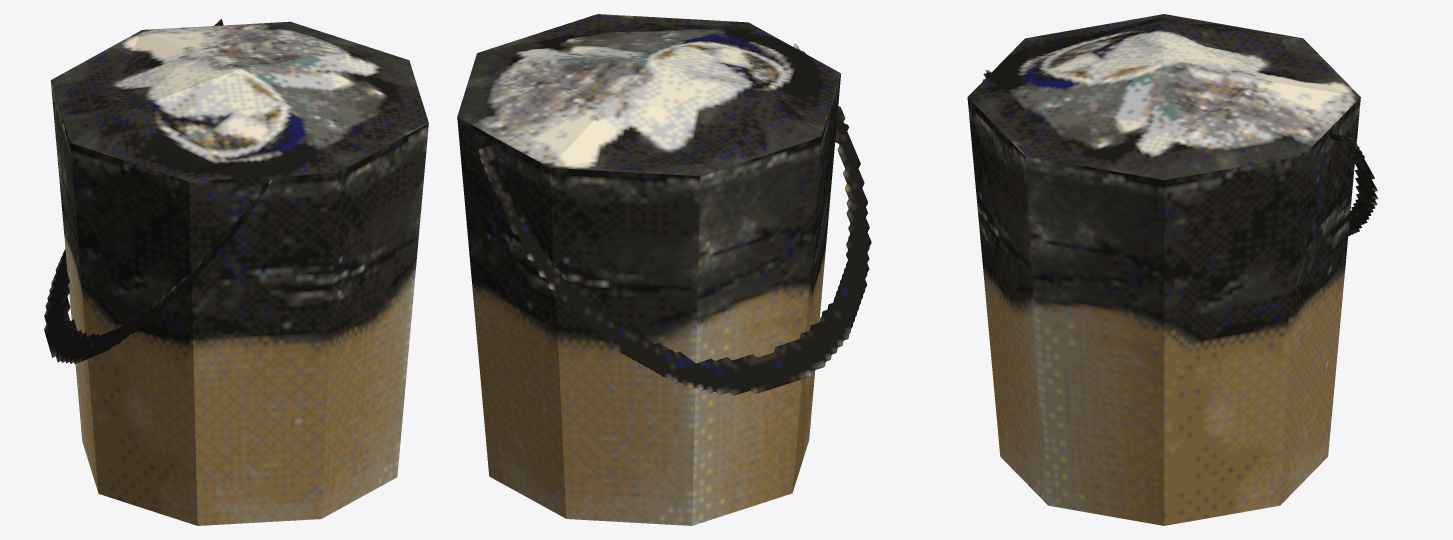
The model's file is trashcan.fbx.
3 views of the same model, side by side, from view 1: azimuth 30°, elevation 25°; view 2: azimuth 150°, elevation 25°; view 3: azimuth 270°, elevation 25° (orthographic).
Visible parts, largest first — view 1: Trashcan; view 2: Trashcan; view 3: Trashcan.
Boxes of the visible parts, x1,y1,x2,y2 form: Trashcan: [44, 19, 428, 525]; Trashcan: [457, 14, 871, 525]; Trashcan: [967, 14, 1378, 525].
Bounding box in the file's own units: 84.88 × 79.21 × 86.29.
1 material, 1 textured.
